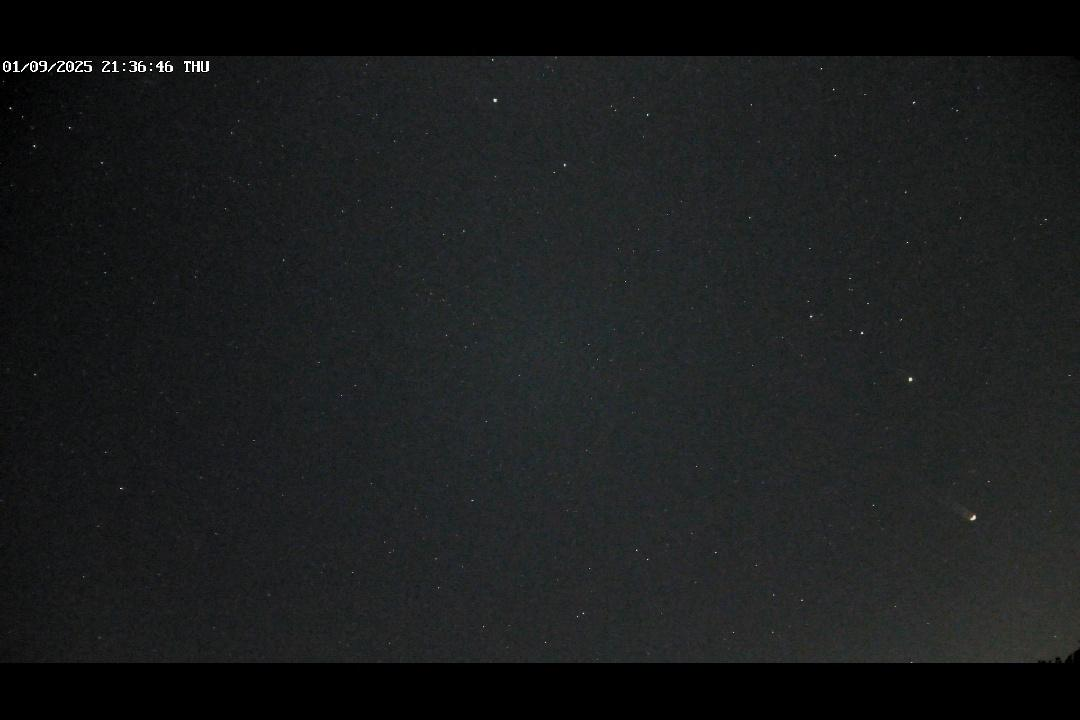Plane: (930, 492, 983, 526)
